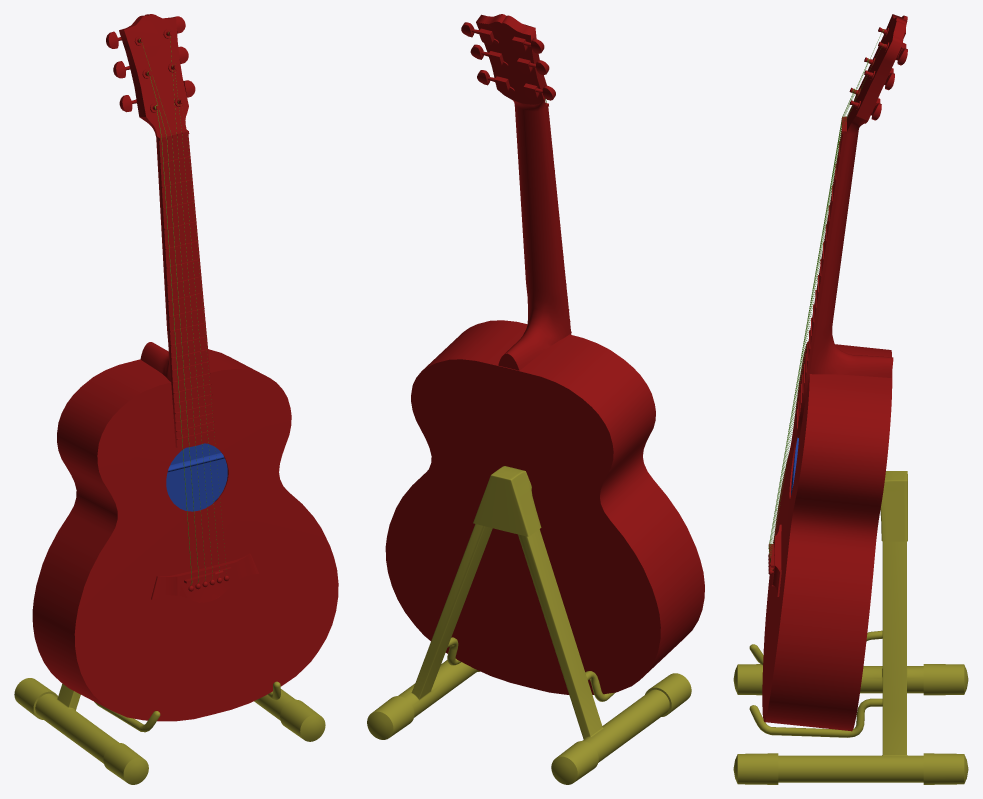
The model's file is Acoustic.obj.
The picture shows the model from 3 angles, left to right: view 1: azimuth 30°, elevation 25°; view 2: azimuth 150°, elevation 25°; view 3: azimuth 270°, elevation 25°; orthographic projection. The views are drawn at different scales.
Visible parts, largest first — view 1: body1_low, fretboard_low, stand_low, body2_low, bridge_low, strings_low, frets_low; view 2: body1_low, stand_low, fretboard_low; view 3: body1_low, stand_low, fretboard_low, strings_low, frets_low, bridge_low.
Boxes of the visible parts, x1,y1,x2,y2 form: body1_low: (32, 349, 338, 721); fretboard_low: (119, 14, 215, 448); stand_low: (14, 678, 325, 784); body2_low: (166, 443, 227, 511); bridge_low: (151, 553, 258, 602); strings_low: (139, 32, 226, 585); frets_low: (160, 156, 214, 439); body1_low: (385, 320, 704, 694); stand_low: (367, 466, 691, 784); fretboard_low: (476, 14, 571, 370); body1_low: (762, 342, 892, 731); stand_low: (733, 471, 968, 784); fretboard_low: (796, 14, 906, 437); strings_low: (768, 29, 884, 569); frets_low: (797, 142, 839, 429); bridge_low: (769, 524, 781, 596).
Bounding box in the file's own units: 43.21 × 109 × 32.16.
